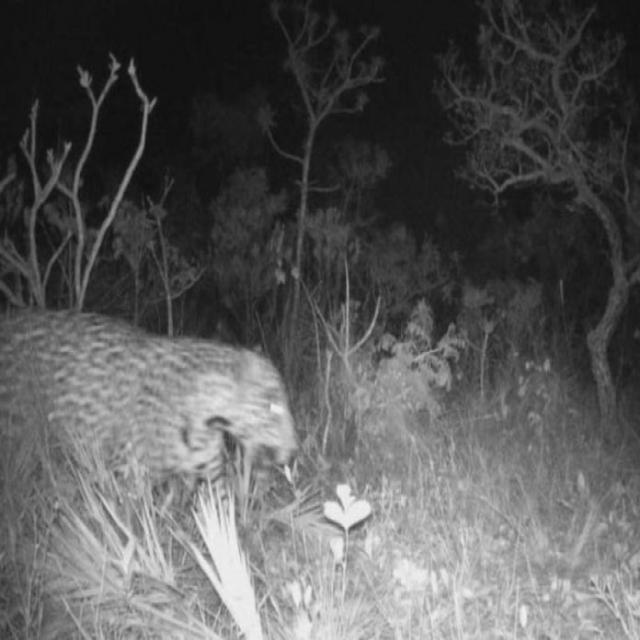Jaguar: (0, 302, 303, 512)
